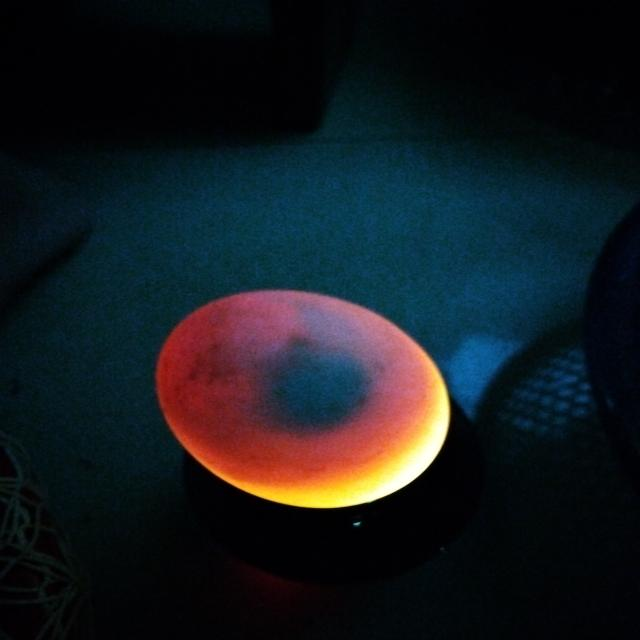Area Infectada: (222, 306, 384, 436)
